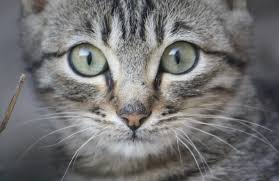Gato: (21, 1, 264, 180)
